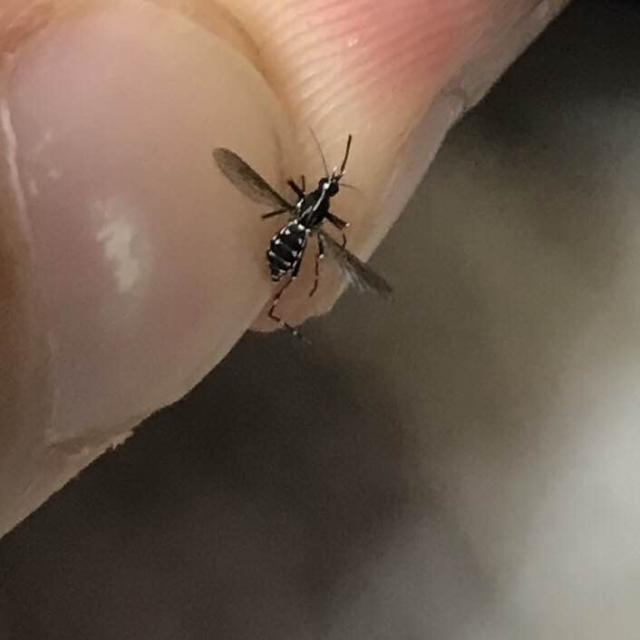albopictus: (203, 118, 397, 343)
